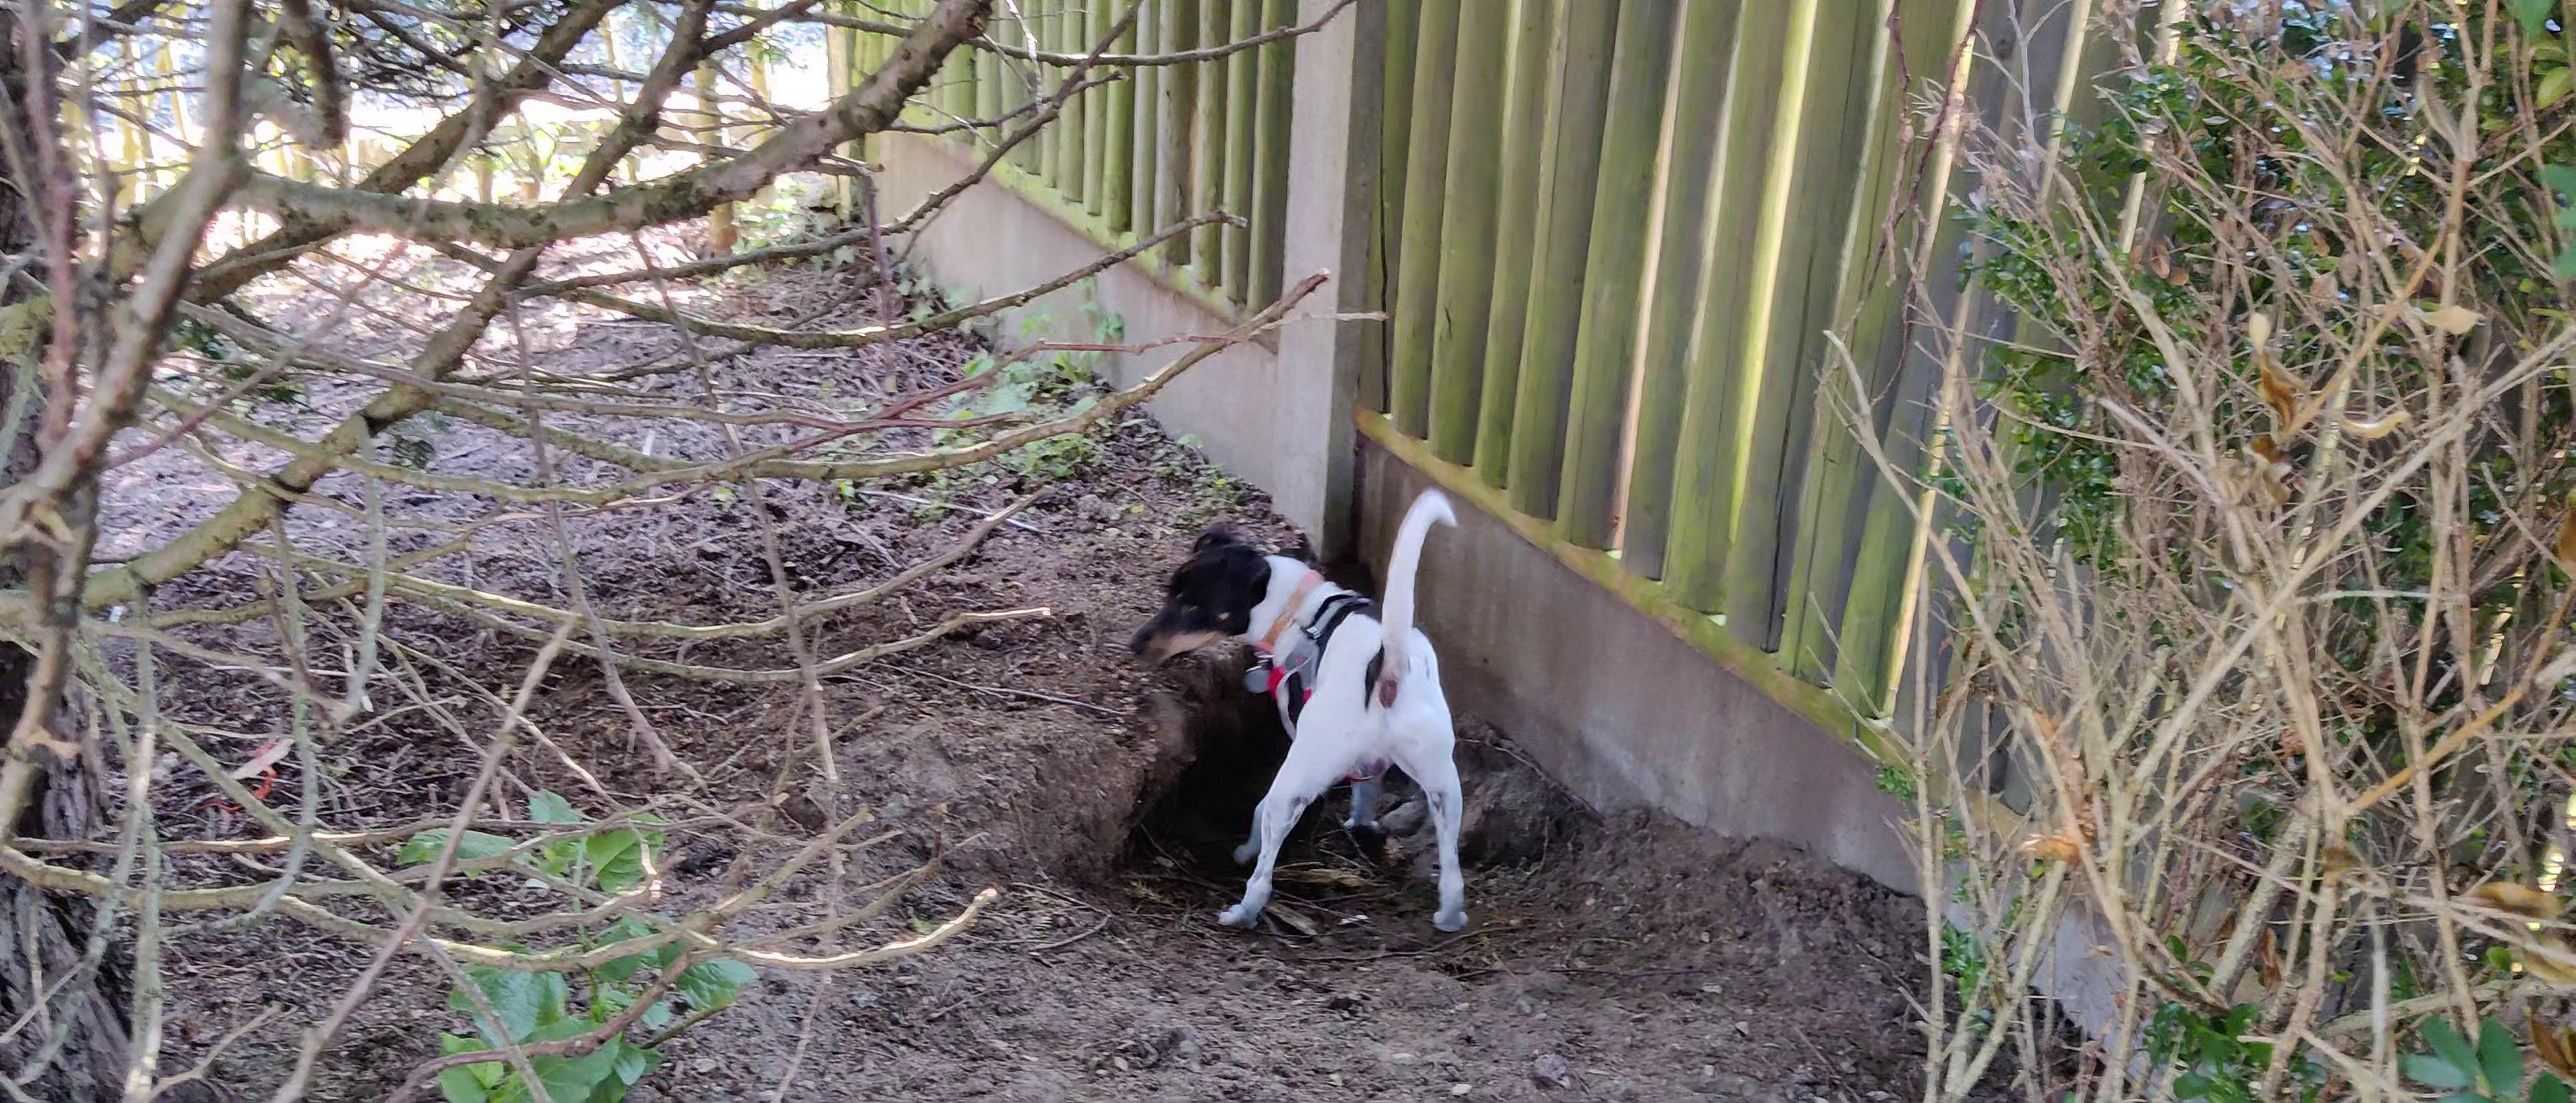Dog: (1127, 478, 1520, 948)
